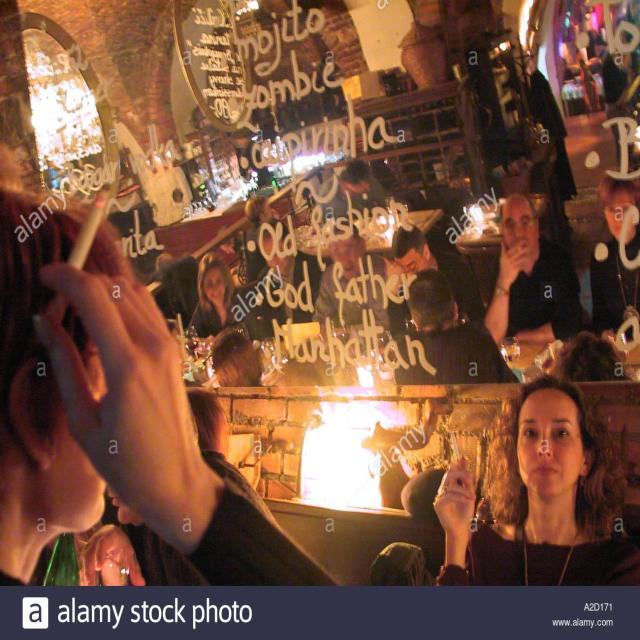cigarette: (53, 164, 133, 316), (441, 421, 468, 482)
